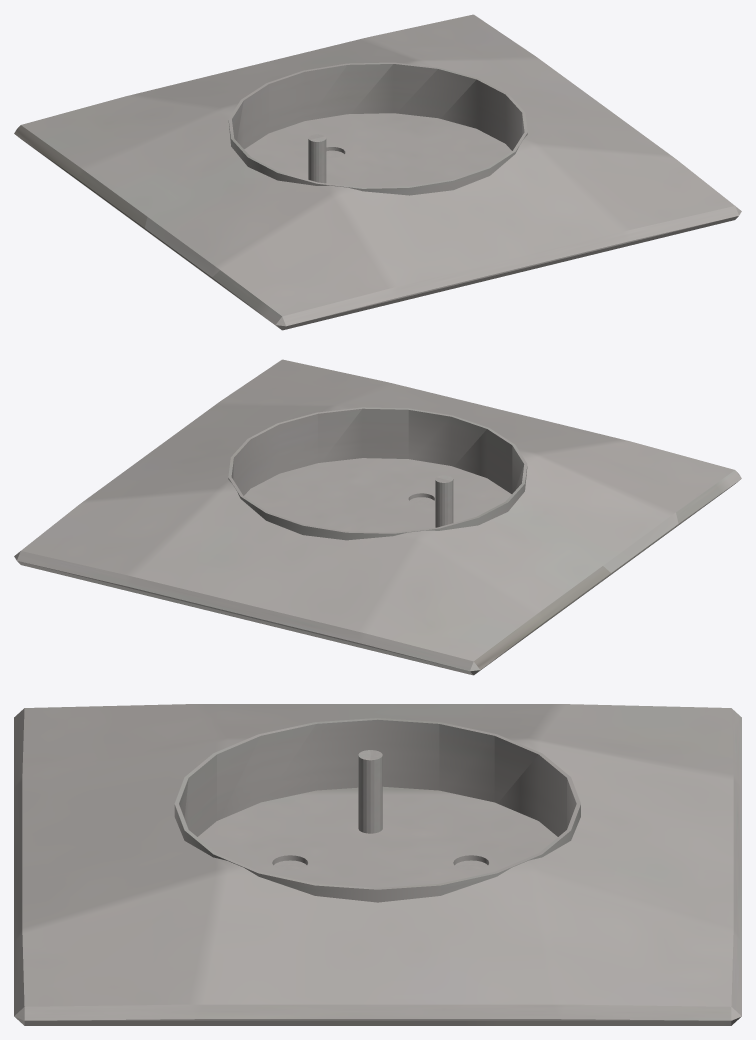
The model's file is kontakt_pojedynczy_pradowy.fbx.
3 views of the same model, one above another, from view 1: azimuth 30°, elevation 25°; view 2: azimuth 150°, elevation 25°; view 3: azimuth 270°, elevation 25° (orthographic). The views are drawn at different scales.
Visible parts, largest first — view 1: sama_sala:group3; view 2: sama_sala:group3; view 3: sama_sala:group3.
Part boxes in pixels (<box>): sama_sala:group3: <box>14,14,741,330</box>; sama_sala:group3: <box>14,359,741,675</box>; sama_sala:group3: <box>14,704,741,1025</box>.
Bounding box in the file's own units: 33.09 × 4.25 × 33.09.
